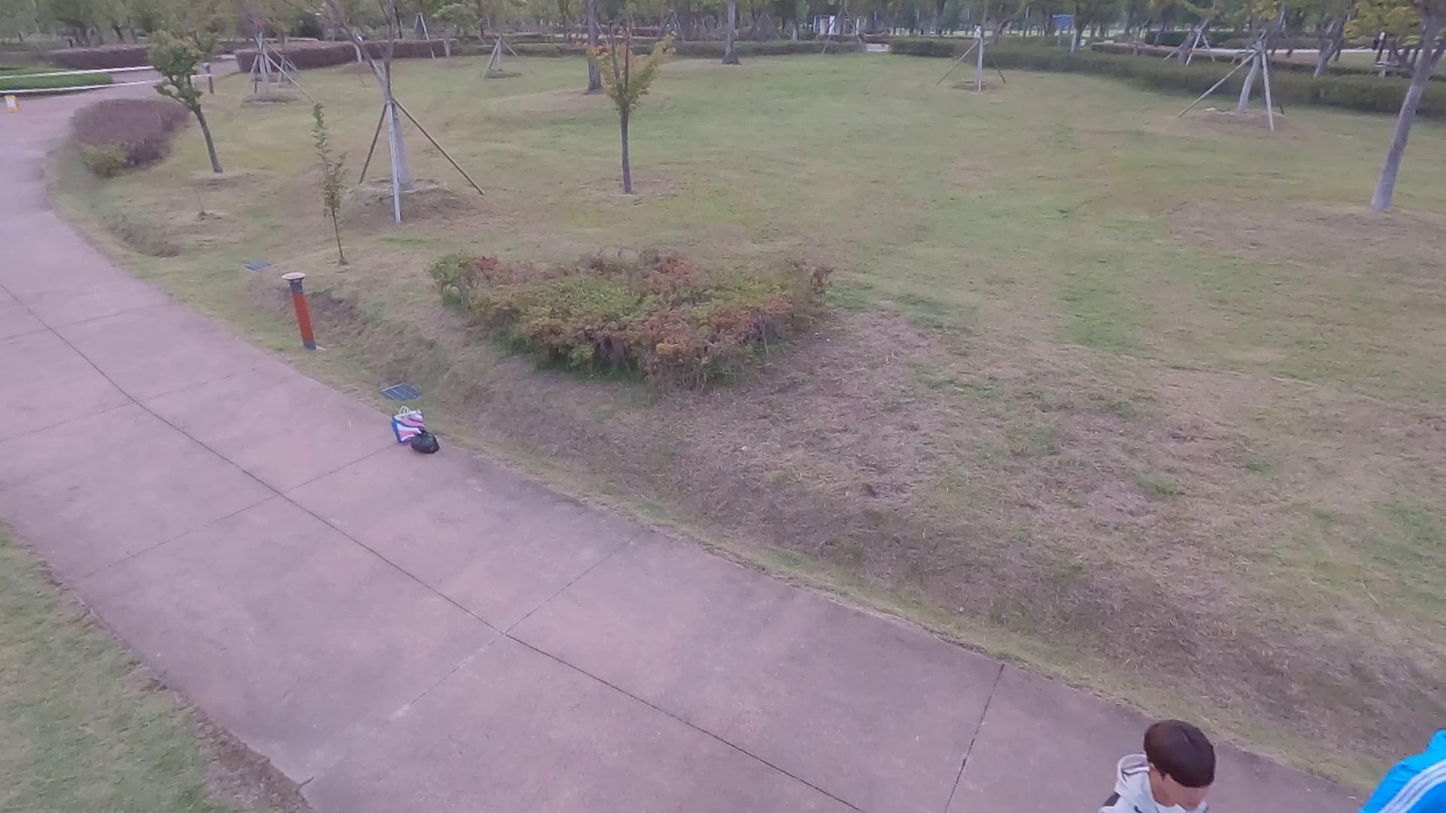trash: (390, 404, 426, 445), (409, 428, 440, 455)
